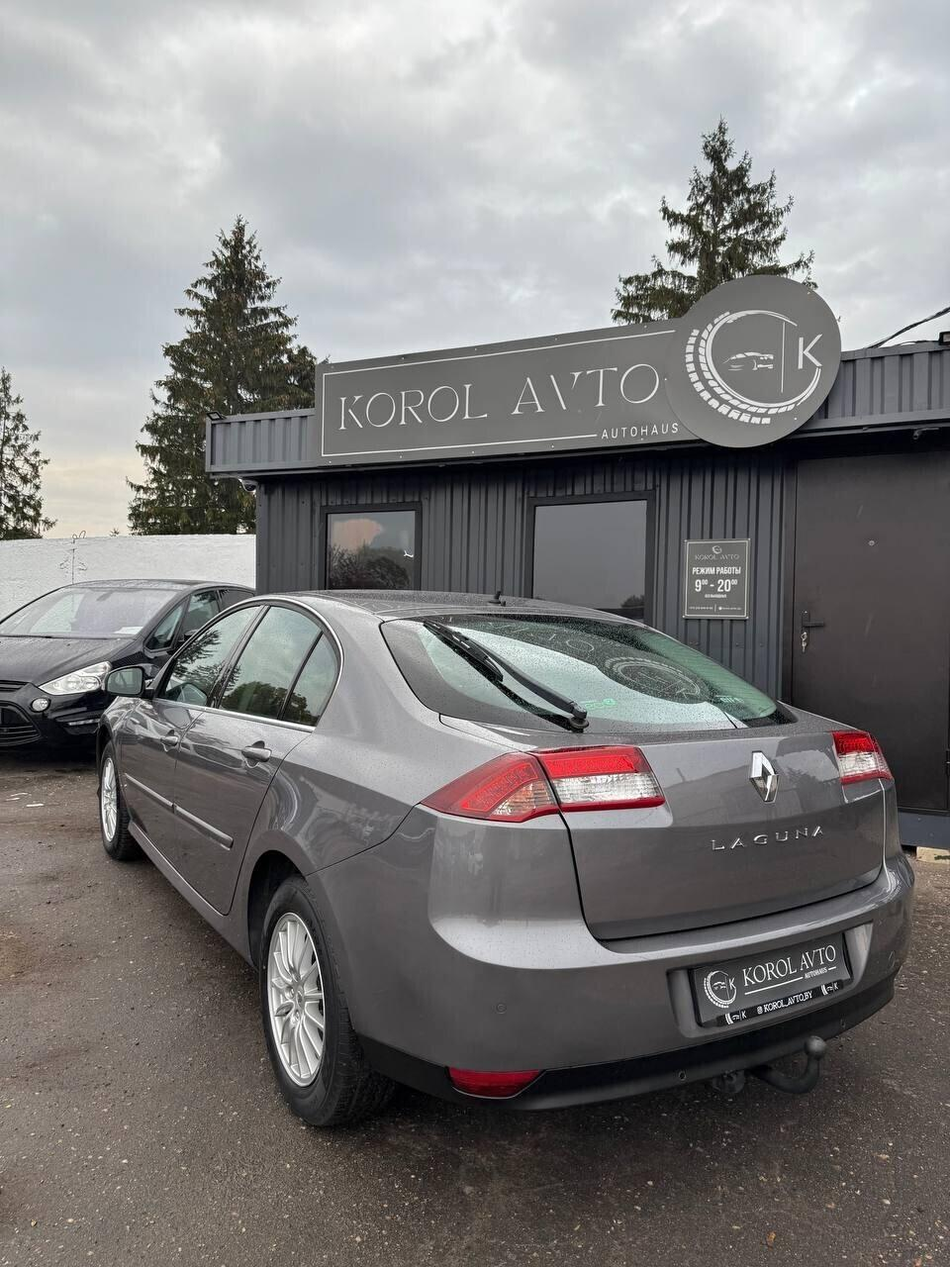Laguna_2010-2015: (87, 577, 925, 1127)
